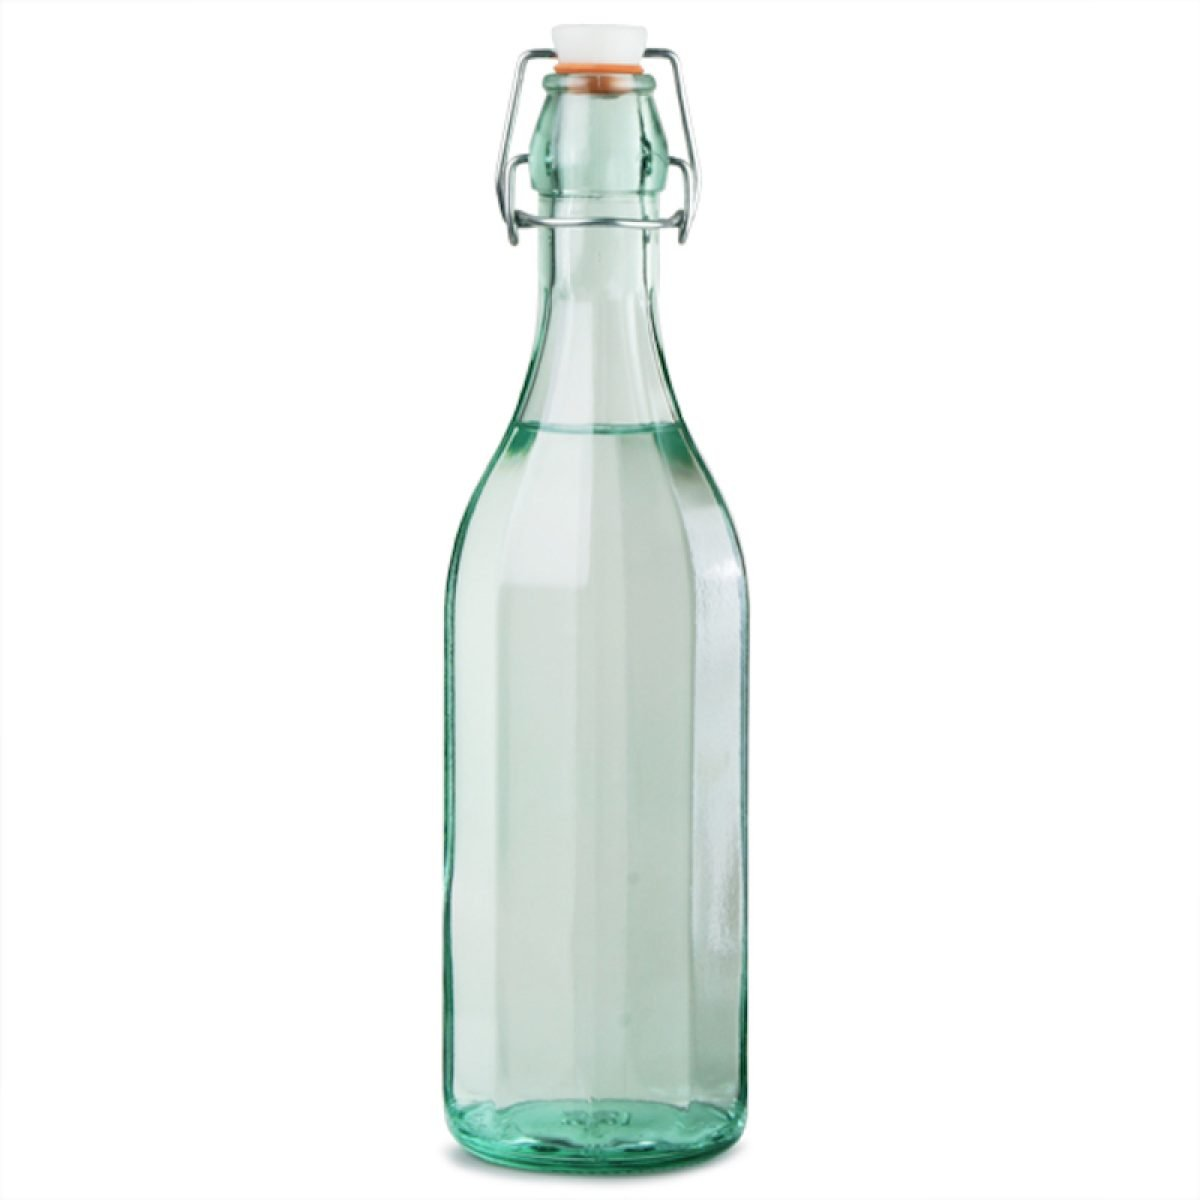glass_bottle: (416, 13, 777, 1189)
